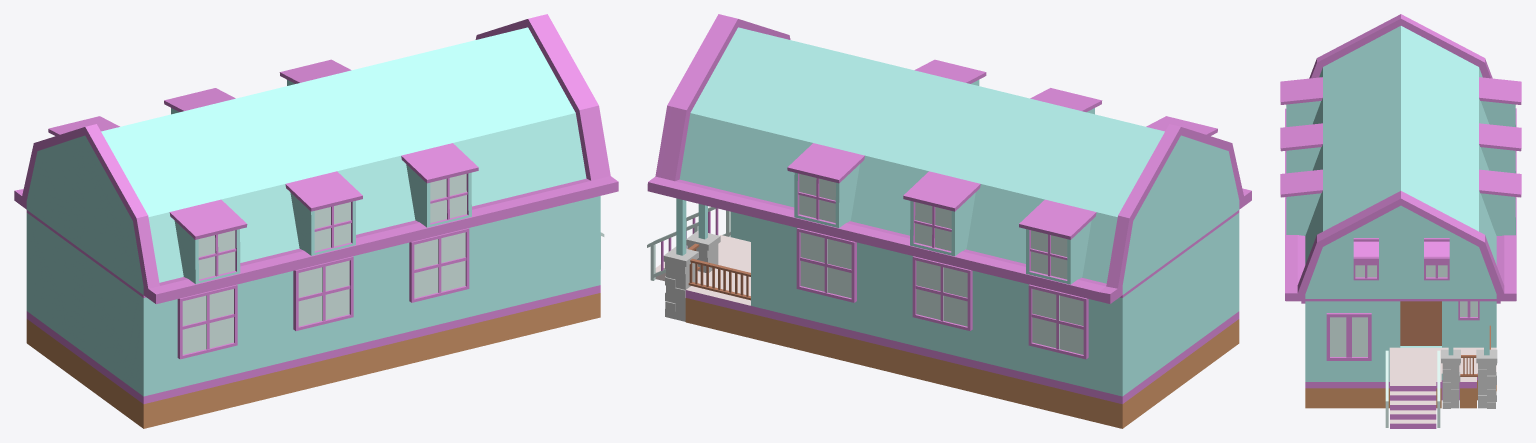
File: D2_ice_cream_house_outside.fbx
The picture shows the model from 3 angles, left to right: view 1: azimuth 30°, elevation 25°; view 2: azimuth 150°, elevation 25°; view 3: azimuth 270°, elevation 25°; orthographic projection. The views are drawn at different scales.
Visible parts, largest first — view 1: Cube.099, Cube.101, Cube.100; view 2: Cube.099, Cube.101, Cube.100, Cube.105, Cube.107, Cube.104; view 3: Cube.099, Cube.101, Cube.105, Cube.108, Cube.103, Cube.102, Cube.104, Cube.109.
Part boxes in pixels (box(x1,y1,x2,y2)): Cube.099: box(14, 14, 618, 428); Cube.101: box(48, 59, 478, 284); Cube.100: box(177, 228, 469, 359); Cube.099: box(647, 14, 1251, 428); Cube.101: box(787, 59, 1217, 284); Cube.100: box(796, 228, 1088, 359); Cube.105: box(663, 198, 720, 321); Cube.107: box(688, 258, 750, 300); Cube.104: box(647, 207, 730, 280); Cube.099: box(1285, 14, 1516, 408); Cube.101: box(1280, 77, 1521, 235); Cube.105: box(1441, 301, 1497, 408); Cube.108: box(1353, 238, 1449, 280); Cube.103: box(1390, 382, 1436, 428); Cube.102: box(1326, 313, 1371, 360); Cube.104: box(1385, 350, 1440, 427); Cube.109: box(1458, 301, 1479, 320).
Size of the model in its own units: 2146 by 1043 by 1074.
1 material, 1 textured.
